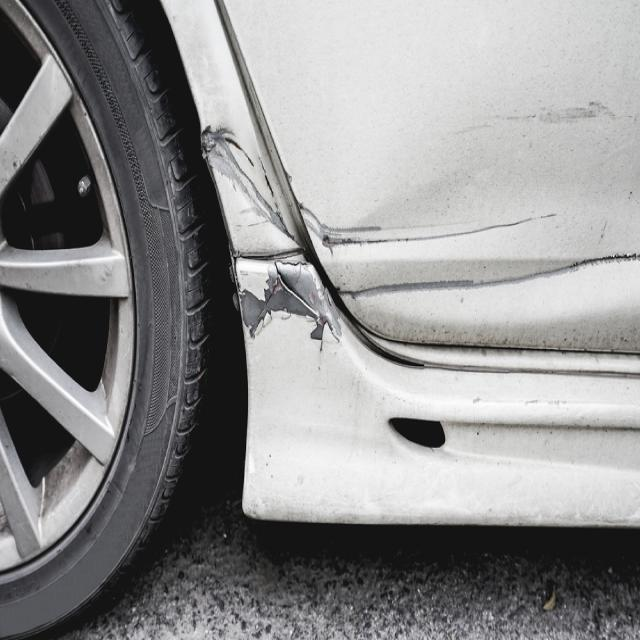crack: (259, 260, 320, 317)
scratch: (297, 201, 640, 307), (202, 118, 299, 263), (234, 261, 342, 354)
